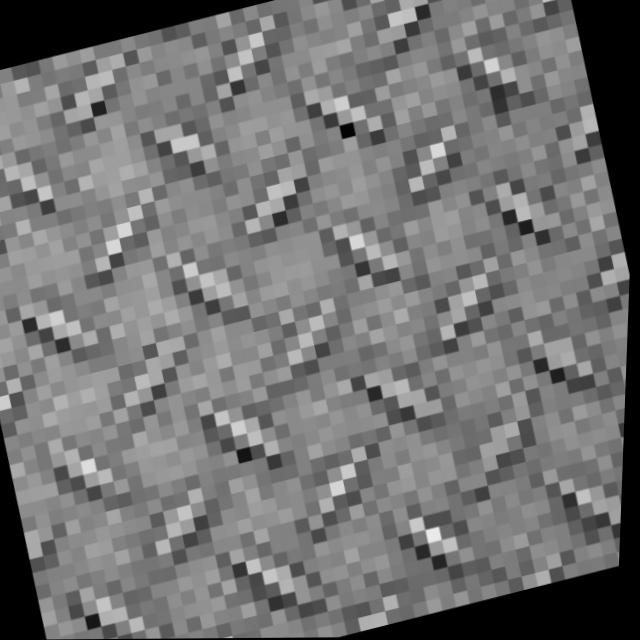metal-plates: (1, 1, 633, 640)
